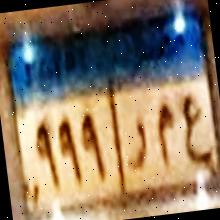9: (75, 107, 108, 185), (29, 120, 61, 198), (54, 112, 83, 186)
ain: (177, 93, 216, 174)
meem: (150, 97, 182, 176)
raa: (118, 110, 154, 181)
